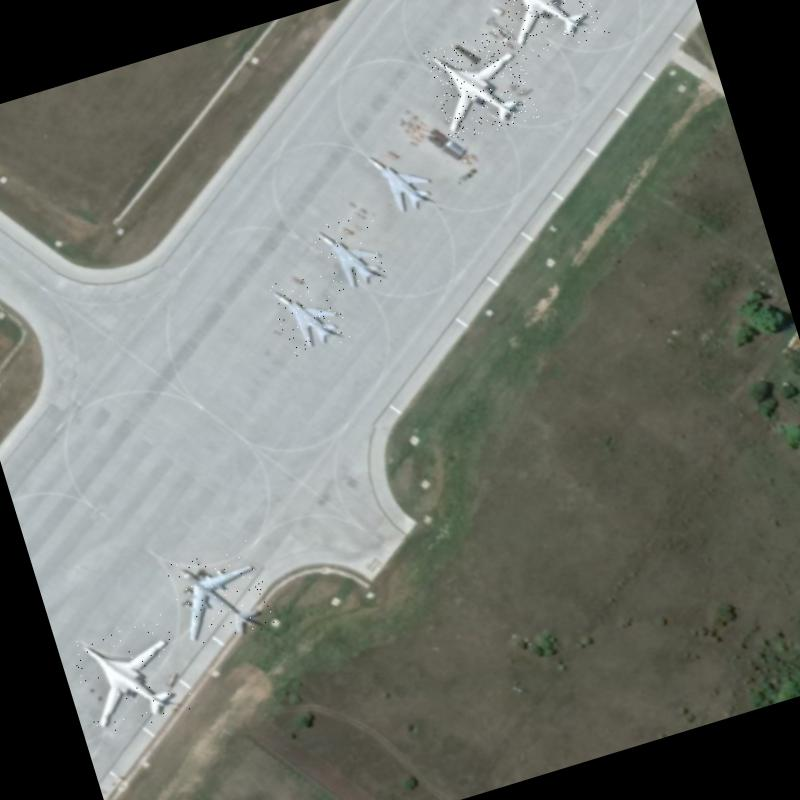A12: (266, 265, 352, 360), (308, 206, 392, 298), (364, 132, 444, 220)
A17: (163, 538, 282, 656)
A6: (68, 612, 200, 740), (423, 24, 540, 144), (493, 0, 610, 61)
